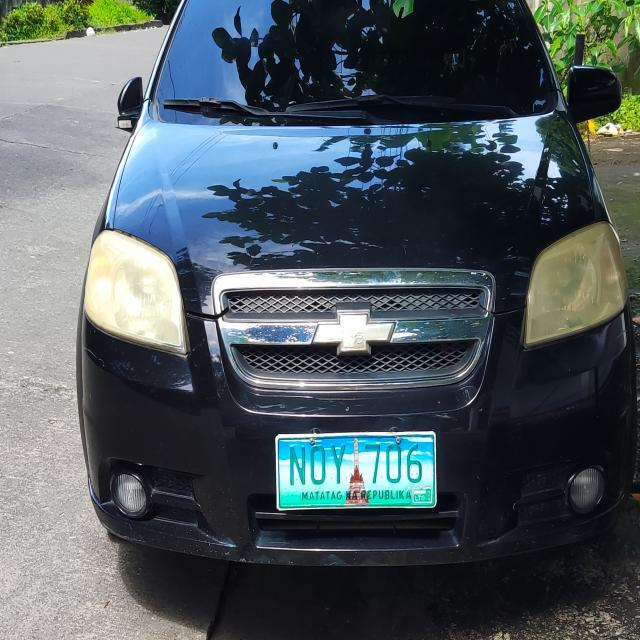plate: (274, 428, 438, 512)
